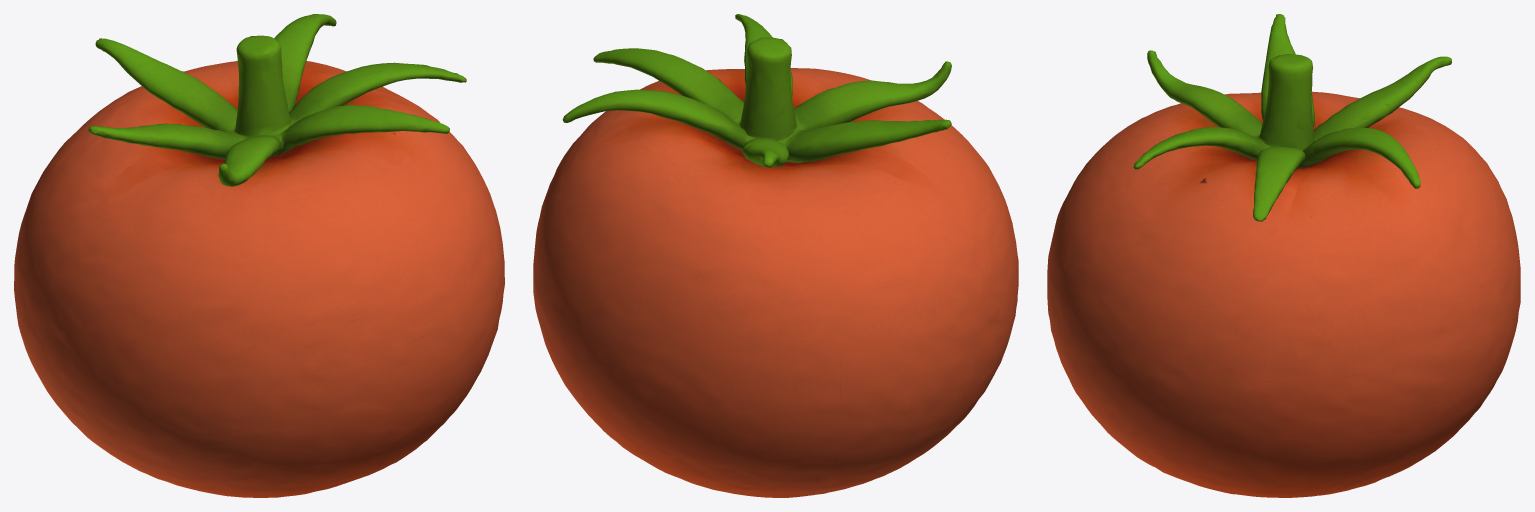
Rendered from tomato.glb.
The picture shows the model from 3 angles, left to right: view 1: azimuth 30°, elevation 25°; view 2: azimuth 150°, elevation 25°; view 3: azimuth 270°, elevation 25°; orthographic projection. The views are drawn at different scales.
Parts seen in each view (by area): view 1: tripo_node_65fa76f9-e7e3-4858-84f0-6a3b8471d61e; view 2: tripo_node_65fa76f9-e7e3-4858-84f0-6a3b8471d61e; view 3: tripo_node_65fa76f9-e7e3-4858-84f0-6a3b8471d61e.
Boxes of the visible parts, bbox=[...] form: tripo_node_65fa76f9-e7e3-4858-84f0-6a3b8471d61e: bbox=[14, 14, 504, 497]; tripo_node_65fa76f9-e7e3-4858-84f0-6a3b8471d61e: bbox=[533, 14, 1018, 497]; tripo_node_65fa76f9-e7e3-4858-84f0-6a3b8471d61e: bbox=[1047, 14, 1520, 497].
Size of the model in its own units: 0.998 by 0.9512 by 0.998.
1 material, 1 textured.
